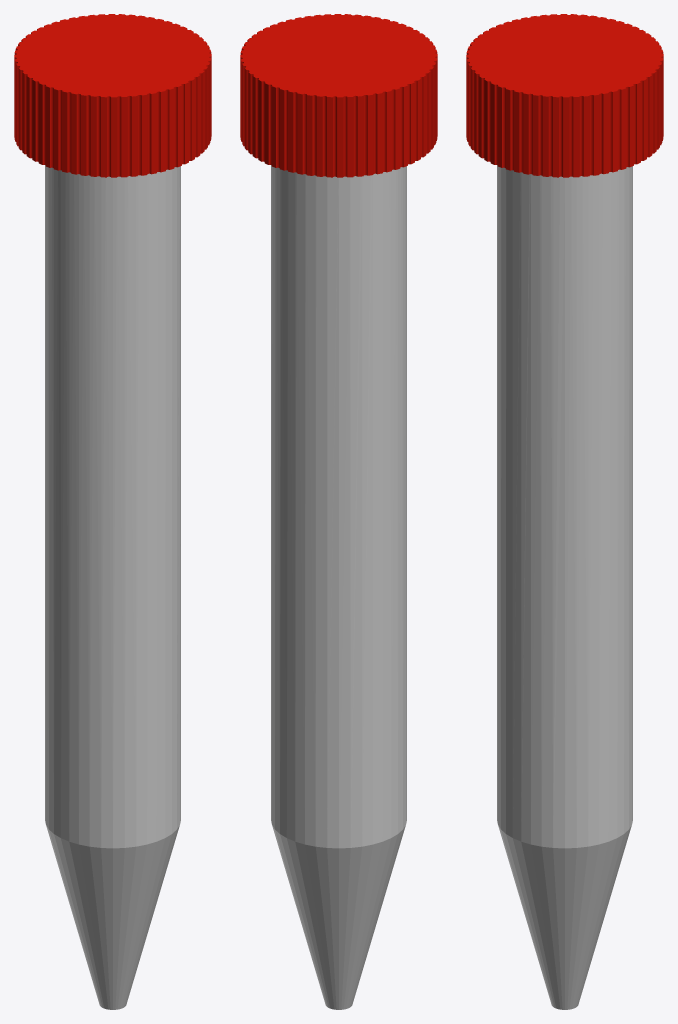
3 renders of one model, left to right at view 1: azimuth 30°, elevation 25°; view 2: azimuth 150°, elevation 25°; view 3: azimuth 270°, elevation 25°, orthographic.
Parts seen in each view (by area): view 1: centrifuge_tube_15ml_body, centrifuge_tube_15ml_cap; view 2: centrifuge_tube_15ml_body, centrifuge_tube_15ml_cap; view 3: centrifuge_tube_15ml_body, centrifuge_tube_15ml_cap.
Part boxes in pixels (left/top/right/bottom): centrifuge_tube_15ml_body: left=45, top=165, right=180, bottom=1009; centrifuge_tube_15ml_cap: left=14, top=14, right=211, bottom=177; centrifuge_tube_15ml_body: left=271, top=165, right=406, bottom=1009; centrifuge_tube_15ml_cap: left=240, top=14, right=437, bottom=177; centrifuge_tube_15ml_body: left=497, top=165, right=632, bottom=1009; centrifuge_tube_15ml_cap: left=466, top=14, right=663, bottom=177.
Bounding box in the file's own units: 0.0226 × 0.12 × 0.0226.
